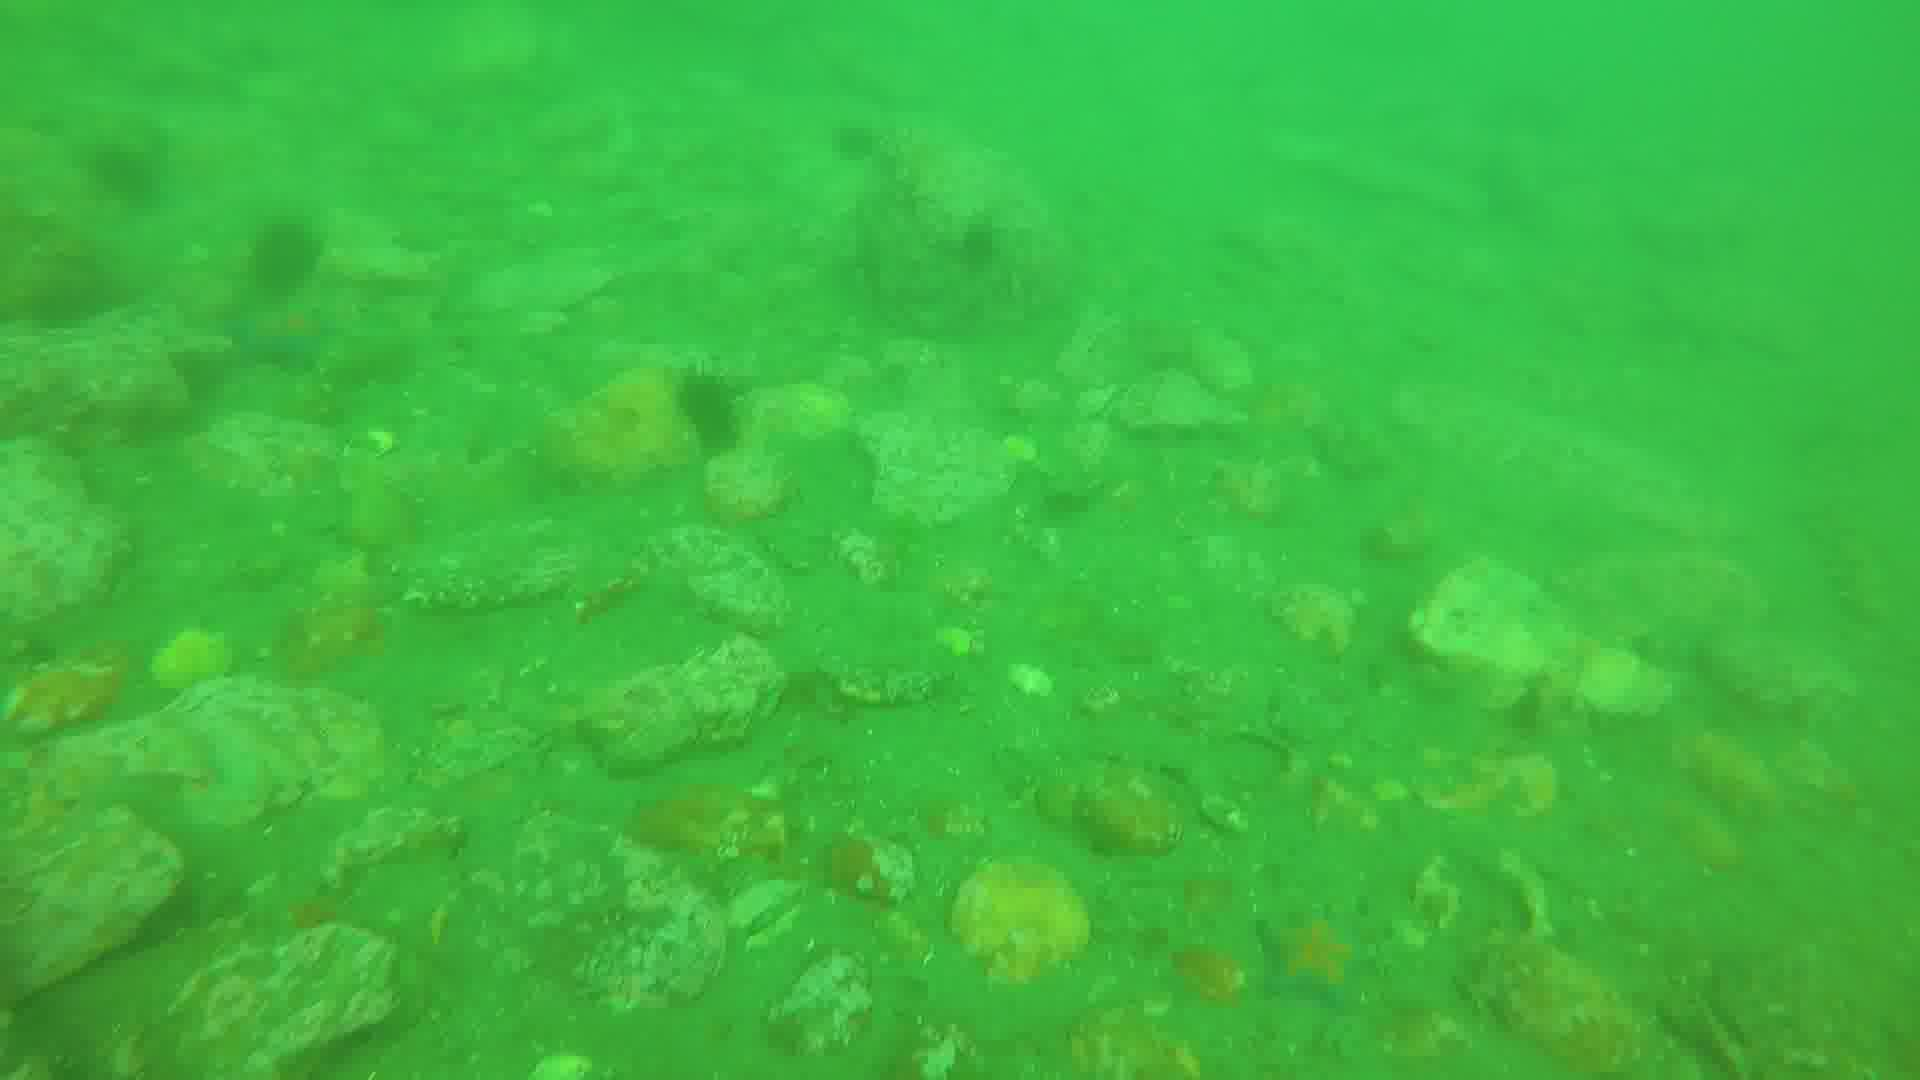echinus: (669, 367, 746, 454), (252, 222, 334, 285), (945, 214, 1006, 277), (837, 116, 887, 158)
scallop: (956, 856, 1102, 984)
starfish: (1261, 895, 1381, 1000), (225, 303, 345, 369)
